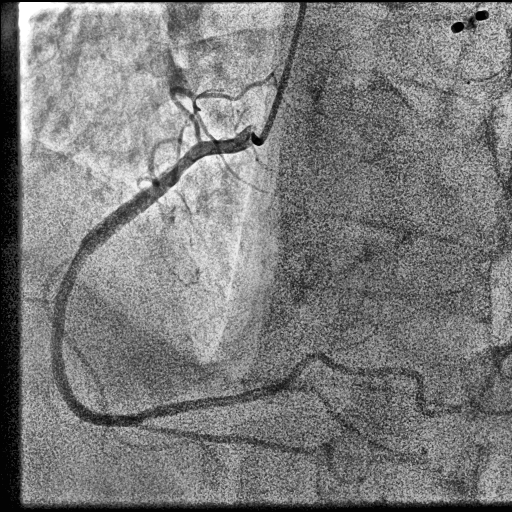pborca: (138, 351, 432, 424)
pda: (138, 424, 334, 458)
rca: (49, 126, 250, 428)
